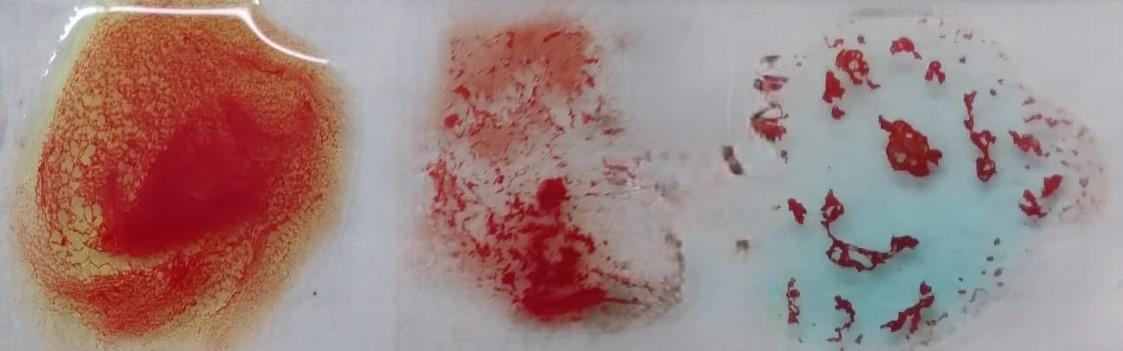A: (725, 26, 1084, 347)
B: (38, 7, 326, 351)
D: (428, 28, 672, 333)
